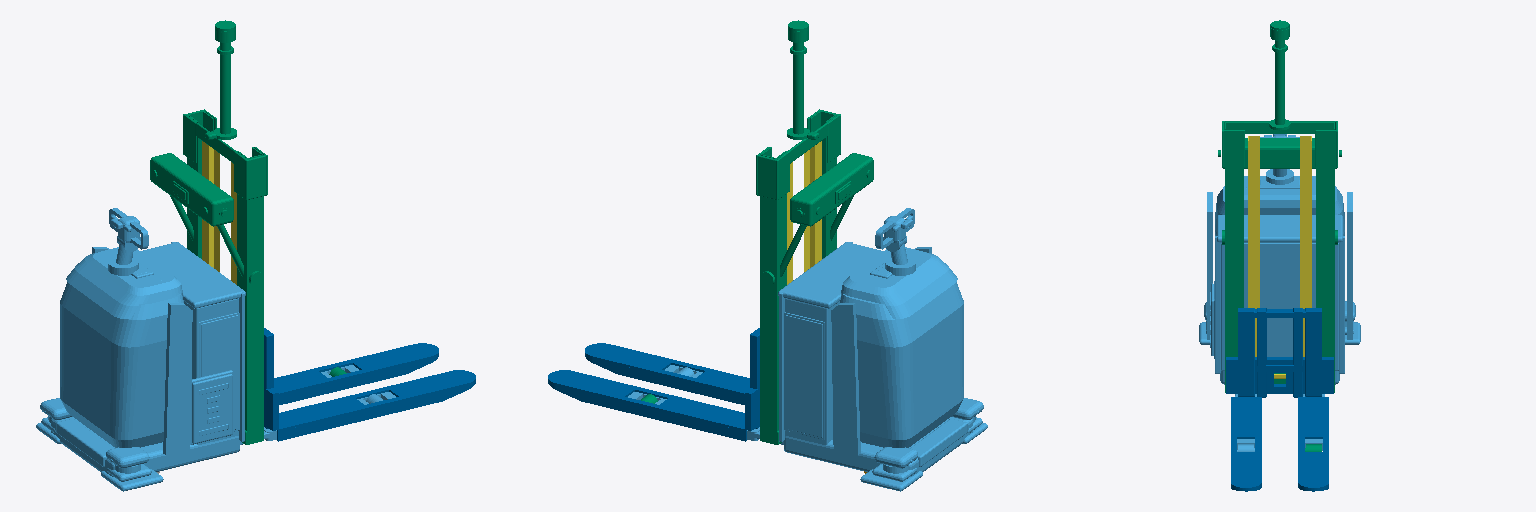
robot.urdf — toyota_sae160_dx_reference:
<?xml version="1.0"?>
<robot name="toyota_sae160_dx_reference">
<link name="base_footprint"></link>
<link name="base_link"><visual ><geometry ><mesh filename="../meshes/base_link.obj"/></geometry></visual><collision ><origin xyz="-1.3075 0 0.56225" rpy="0 0 0"/><geometry ><box size="0.821 0.93 1.0755"/></geometry></collision><collision ><origin xyz="-0.2935 -0.208 0.051" rpy="0 0 0"/><geometry ><box size="0.827 0.154 0.068"/></geometry></collision><collision ><origin xyz="-0.2935 0.208 0.051" rpy="0 0 0"/><geometry ><box size="0.827 0.154 0.068"/></geometry></collision><collision ><origin xyz="-1.4405 0 1.2395" rpy="0 0 0"/><geometry ><box size="0.1692 0.361 0.291"/></geometry></collision><collision ><origin xyz="-1.38305 -0.0442 1.0928" rpy="0 0 0"/><geometry ><box size="0.1151 0.3636 0.0266"/></geometry></collision></link>
<link name="mast_outer"><visual ><geometry ><mesh filename="../meshes/mast_outer.obj"/></geometry></visual><collision ><origin xyz="-0.817 -0.265 0.8985" rpy="0 0 0"/><geometry ><box size="0.1 0.11 1.677"/></geometry></collision><collision ><origin xyz="-0.817 0.265 0.8985" rpy="0 0 0"/><geometry ><box size="0.1 0.11 1.677"/></geometry></collision><collision ><origin xyz="-0.872 0 0.1" rpy="0 0 0"/><geometry ><box size="0.0142 0.64 0.08"/></geometry></collision><collision ><origin xyz="-0.872 0 1.697" rpy="0 0 0"/><geometry ><box size="0.0142 0.64 0.08"/></geometry></collision><collision ><origin xyz="-0.817 0 2.059" rpy="0 0 0"/><geometry ><box size="0.11 0.11 0.644"/></geometry></collision><collision ><origin xyz="-0.817 0 1.744" rpy="0 0 0"/><geometry ><box size="0.1262 0.1262 0.0172"/></geometry></collision><collision ><origin xyz="-0.817 0 2.362" rpy="0 0 0"/><geometry ><box size="0.1122 0.1122 0.0122"/></geometry></collision><collision ><origin xyz="-1.0287 0 1.463" rpy="0 0 0"/><geometry ><box size="0.1496 0.7102 0.146"/></geometry></collision><collision ><origin xyz="-0.932 -0.267 1.204" rpy="0 -0.434367276655 0"/><geometry ><box size="0.036 0.036 0.427719534275"/></geometry></collision><collision ><origin xyz="-0.932 0.267 1.204" rpy="0 -0.434367276655 0"/><geometry ><box size="0.036 0.036 0.427719534275"/></geometry></collision><collision ><origin xyz="-0.907 0 1.752" rpy="0 0 0"/><geometry ><box size="0.0502 0.0502 0.03"/></geometry></collision><collision ><origin xyz="-0.817 -0.328 1.025" rpy="0 0 0"/><geometry ><box size="0.0822 0.0172 0.0822"/></geometry></collision><collision ><origin xyz="-0.817 0.328 1.025" rpy="0 0 0"/><geometry ><box size="0.0822 0.0172 0.0822"/></geometry></collision><collision ><origin xyz="-0.817 -0.27 1.619" rpy="0 0 0"/><geometry ><box size="0.137 0.1352 0.235"/></geometry></collision><collision ><origin xyz="-0.817 0.27 1.619" rpy="0 0 0"/><geometry ><box size="0.137 0.1352 0.235"/></geometry></collision></link>
<link name="mast_inner"><visual ><geometry ><mesh filename="../meshes/mast_inner.obj"/></geometry></visual><collision ><origin xyz="-0.817 -0.15 0.8985" rpy="0 0 0"/><geometry ><box size="0.07 0.07 1.517"/></geometry></collision><collision ><origin xyz="-0.817 0.15 0.8985" rpy="0 0 0"/><geometry ><box size="0.07 0.07 1.517"/></geometry></collision><collision ><origin xyz="-0.745 0 0.175" rpy="0 0 0"/><geometry ><box size="0.01 0.3702 0.03"/></geometry></collision><collision ><origin xyz="-0.7635 -0.13 0.175" rpy="0 0 0"/><geometry ><box size="0.047 0.018 0.02"/></geometry></collision><collision ><origin xyz="-0.7635 0.13 0.175" rpy="0 0 0"/><geometry ><box size="0.047 0.018 0.02"/></geometry></collision></link>
<link name="carriage"><visual ><geometry ><mesh filename="../meshes/carriage.obj"/></geometry></visual><collision ><origin xyz="-0.025 0 0.266" rpy="0 0 0"/><geometry ><box size="0.05 0.62 0.552"/></geometry></collision><collision ><origin xyz="0.625 -0.195 -0.035" rpy="0 0 0"/><geometry ><box size="1.25 0.18 0.07"/></geometry></collision><collision ><origin xyz="0.625 0.195 -0.035" rpy="0 0 0"/><geometry ><box size="1.25 0.18 0.07"/></geometry></collision><collision ><origin xyz="-0.12 -0.12825 0.15" rpy="0 0 0"/><geometry ><box size="0.14 0.0625 0.06"/></geometry></collision><collision ><origin xyz="-0.12 -0.12825 0.3" rpy="0 0 0"/><geometry ><box size="0.14 0.0625 0.06"/></geometry></collision><collision ><origin xyz="-0.12 0.12825 0.15" rpy="0 0 0"/><geometry ><box size="0.14 0.0625 0.06"/></geometry></collision><collision ><origin xyz="-0.12 0.12825 0.3" rpy="0 0 0"/><geometry ><box size="0.14 0.0625 0.06"/></geometry></collision></link>
<link name="steer_link"><visual ><geometry ><mesh filename="../meshes/steer_link.obj"/></geometry></visual></link>
<link name="drive_wheel"><visual ><geometry ><mesh filename="../meshes/drive_wheel.obj"/></geometry></visual></link>
<link name="castor_right"><visual ><geometry ><mesh filename="../meshes/castor_right.obj"/></geometry></visual></link>
<link name="castor_left"><visual ><geometry ><mesh filename="../meshes/castor_left.obj"/></geometry></visual></link>
<link name="support_wheel_right"><visual ><geometry ><mesh filename="../meshes/support_wheel_right.obj"/></geometry></visual></link>
<link name="support_wheel_left"><visual ><geometry ><mesh filename="../meshes/support_wheel_left.obj"/></geometry></visual></link>
<link name="forks"></link>
<link name="fork_tips"></link>
<link name="nav_scanner"></link>
<link name="charge_plate"></link>
<joint name="base_link_joint" type="fixed"><parent link="base_footprint"/><child link="base_link"/><origin xyz="0 0 0" rpy="0 0 0"/></joint>
<joint name="mast_outer_joint" type="fixed"><parent link="base_link"/><child link="mast_outer"/><origin xyz="0 0 0" rpy="0 0 0"/></joint>
<joint name="mast_stage" type="prismatic"><parent link="mast_outer"/><child link="mast_inner"/><origin xyz="0 0 0" rpy="0 0 0"/><axis xyz="0 0 1"/><limit lower="0" upper="1.1315" velocity="0.17" effort="20000"/><mimic joint="mast_lift" multiplier="0.5" offset="0"/></joint>
<joint name="mast_lift" type="prismatic"><parent link="mast_outer"/><child link="carriage"/><origin xyz="-0.657 0 0.0875" rpy="0 0 0"/><axis xyz="0 0 1"/><limit lower="0" upper="2.263" velocity="0.34" effort="20000"/></joint>
<joint name="steer" type="revolute"><parent link="base_link"/><child link="steer_link"/><origin xyz="-1.452 0 0" rpy="0 0 0"/><axis xyz="0 0 1"/><limit lower="-1.5707963267948966" upper="1.5707963267948966" velocity="1.5" effort="500"/></joint>
<joint name="drive_wheel" type="continuous"><parent link="steer_link"/><child link="drive_wheel"/><origin xyz="0 0 0.115" rpy="0 0 0"/><axis xyz="0 1 0"/><limit effort="200" velocity="19.3237"/></joint>
<joint name="castor_right" type="continuous"><parent link="base_link"/><child link="castor_right"/><origin xyz="-1.452 -0.2925 0.0625" rpy="0 0 0"/><axis xyz="0 1 0"/><limit effort="200" velocity="35.5556"/></joint>
<joint name="castor_left" type="continuous"><parent link="base_link"/><child link="castor_left"/><origin xyz="-1.452 0.2925 0.0625" rpy="0 0 0"/><axis xyz="0 1 0"/><limit effort="200" velocity="35.5556"/></joint>
<joint name="support_wheel_right" type="continuous"><parent link="base_link"/><child link="support_wheel_right"/><origin xyz="0 -0.195 0.0425" rpy="0 0 0"/><axis xyz="0 1 0"/><limit effort="200" velocity="52.2876"/></joint>
<joint name="support_wheel_left" type="continuous"><parent link="base_link"/><child link="support_wheel_left"/><origin xyz="0 0.195 0.0425" rpy="0 0 0"/><axis xyz="0 1 0"/><limit effort="200" velocity="52.2876"/></joint>
<joint name="forks_joint" type="fixed"><parent link="carriage"/><child link="forks"/><origin xyz="0 0 0" rpy="0 0 0"/></joint>
<joint name="fork_tips_joint" type="fixed"><parent link="carriage"/><child link="fork_tips"/><origin xyz="1.25 0 0" rpy="0 0 0"/></joint>
<joint name="nav_scanner_joint" type="fixed"><parent link="mast_outer"/><child link="nav_scanner"/><origin xyz="-0.817 0 2.362" rpy="0 0 0"/></joint>
<joint name="charge_plate_joint" type="fixed"><parent link="base_link"/><child link="charge_plate"/><origin xyz="-1.121 -0.465 0.359" rpy="0 0 -1.57079632679"/></joint>
</robot>

--- Render facts (derived) ---
The picture shows the robot from 3 angles, left to right: view 1: azimuth 30°, elevation 25°; view 2: azimuth 150°, elevation 25°; view 3: azimuth 270°, elevation 25°; orthographic projection.
Model toyota_sae160_dx_reference with 15 links and 14 joints (1 revolute, 5 continuous, 2 prismatic, 6 fixed), rooted at base_footprint, posed every joint at zero.
Links seen in each view (by area): view 1: base_link, mast_outer, carriage, mast_inner; view 2: base_link, mast_outer, carriage, mast_inner; view 3: base_link, mast_outer, carriage, mast_inner.
Link boxes in pixels (bbox=[...]): base_link: bbox=[36, 208, 395, 491]; mast_outer: bbox=[150, 20, 267, 444]; carriage: bbox=[264, 328, 475, 441]; mast_inner: bbox=[202, 141, 236, 284]; base_link: bbox=[628, 208, 987, 491]; mast_outer: bbox=[756, 20, 873, 444]; carriage: bbox=[548, 328, 759, 441]; mast_inner: bbox=[787, 141, 821, 284]; base_link: bbox=[1199, 134, 1360, 450]; mast_outer: bbox=[1218, 20, 1341, 392]; carriage: bbox=[1226, 308, 1333, 491]; mast_inner: bbox=[1248, 136, 1311, 378].
Bounding box of the posed robot: 2.31 × 0.93 × 2.38 m (x, y, z).
Meshes: 10 distinct files referenced, 10 mesh visuals loaded (10 OBJ).
